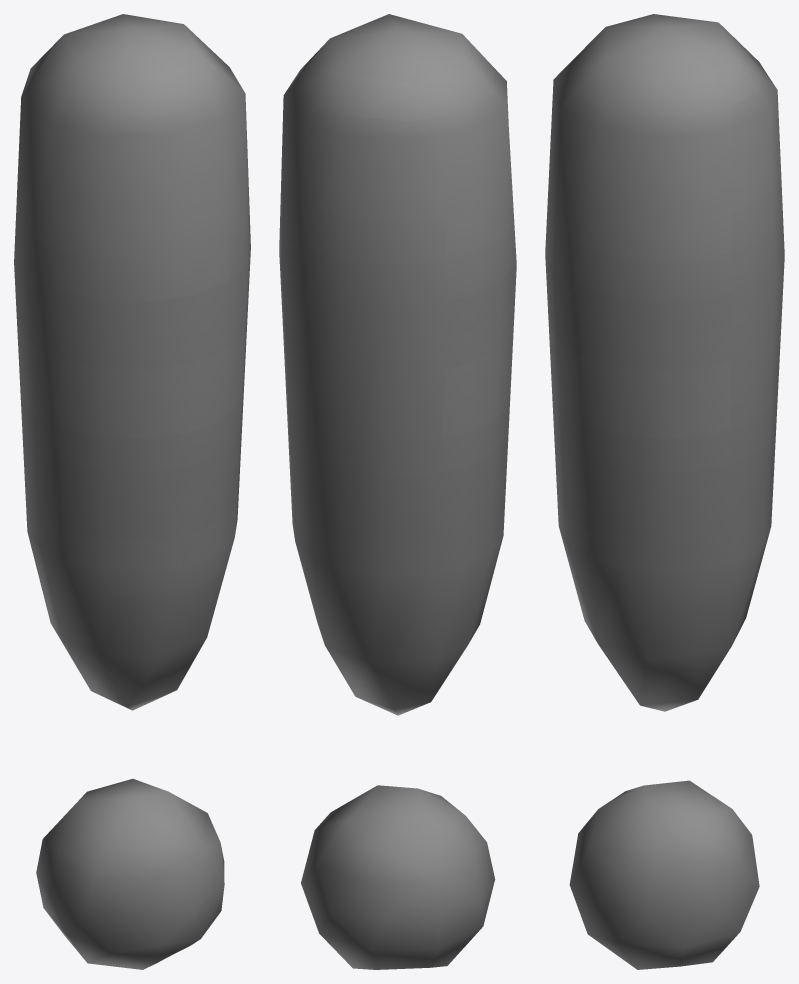
The model's file is exclamation_grey.glb.
3 renders of one model, left to right at view 1: azimuth 30°, elevation 25°; view 2: azimuth 150°, elevation 25°; view 3: azimuth 270°, elevation 25°, orthographic.
Parts seen in each view (by area): view 1: Sphere.001_0; view 2: Sphere.001_0; view 3: Sphere.001_0.
Boxes of the visible parts, x1,y1,x2,y2 form: Sphere.001_0: [14, 14, 250, 969]; Sphere.001_0: [279, 14, 516, 969]; Sphere.001_0: [545, 14, 784, 969].
Size of the model in its own units: 0.2005 by 0.8628 by 0.2005.
Materials: 1 (1 with a texture image).
